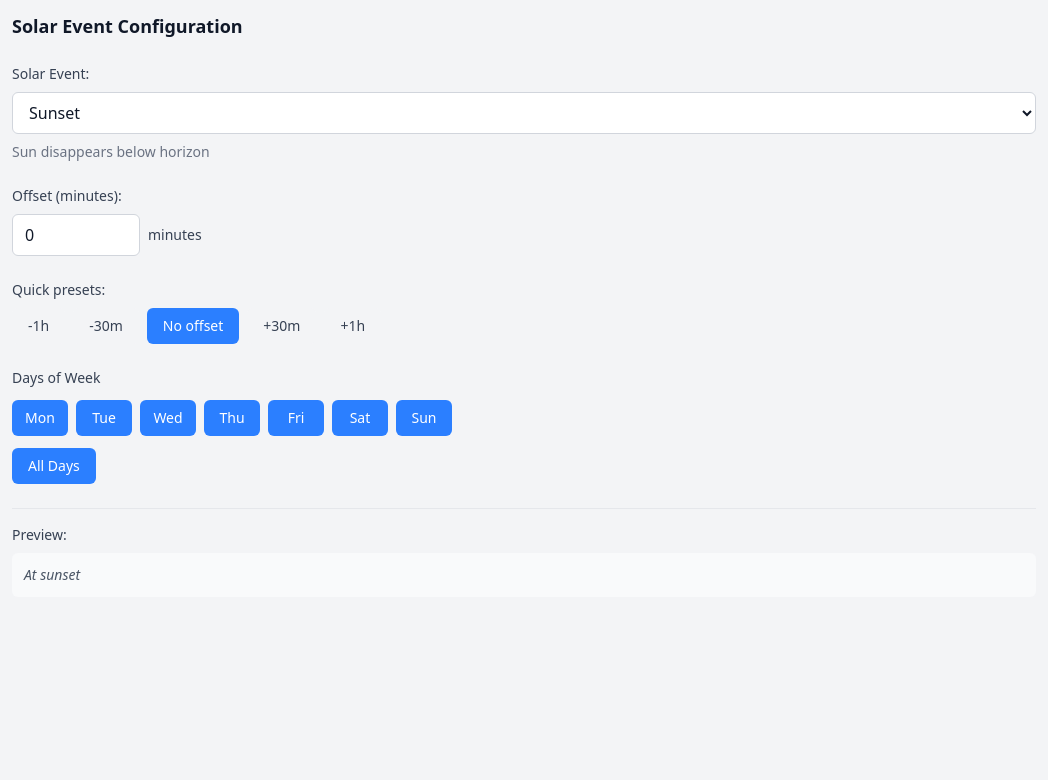
Test: SolarTriggerForm › Offset Input › shows error and does not propagate when input is cleared
Clear the number field named "Offset in minutes" at x=76, y=235, box [12,214,140,256]
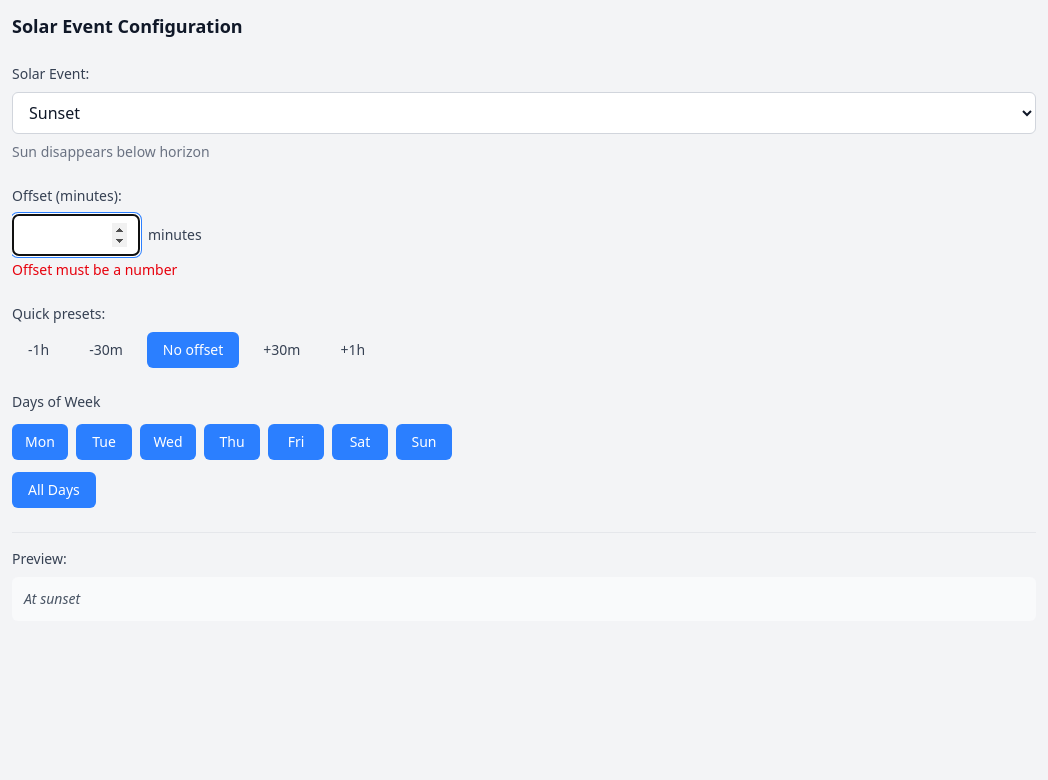
Result: the message "Offset must be a number" is shown at [12,260,177,279]
